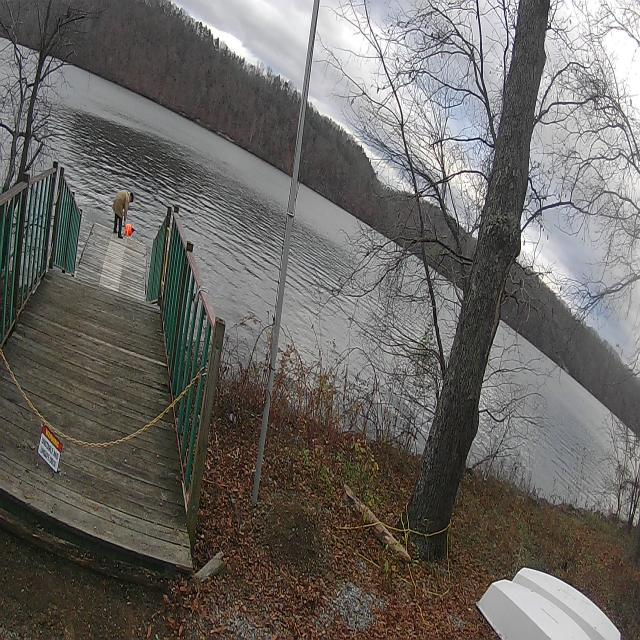Buoy: (124, 222, 134, 238)
